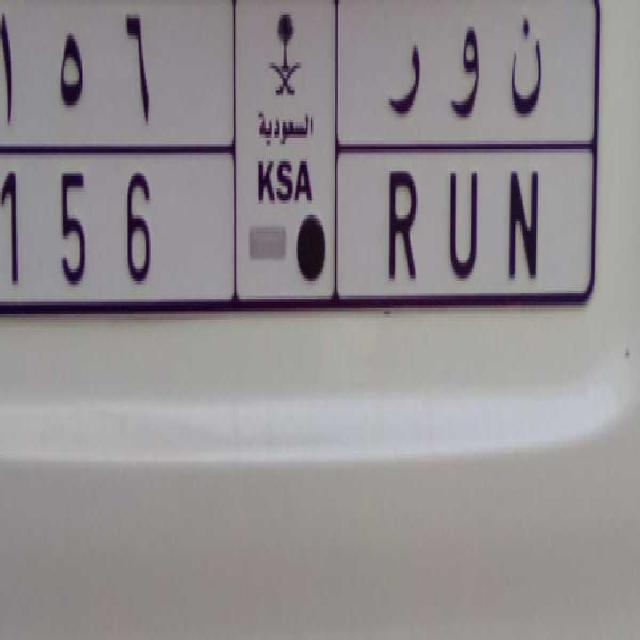license_plate: (0, 140, 588, 324)
